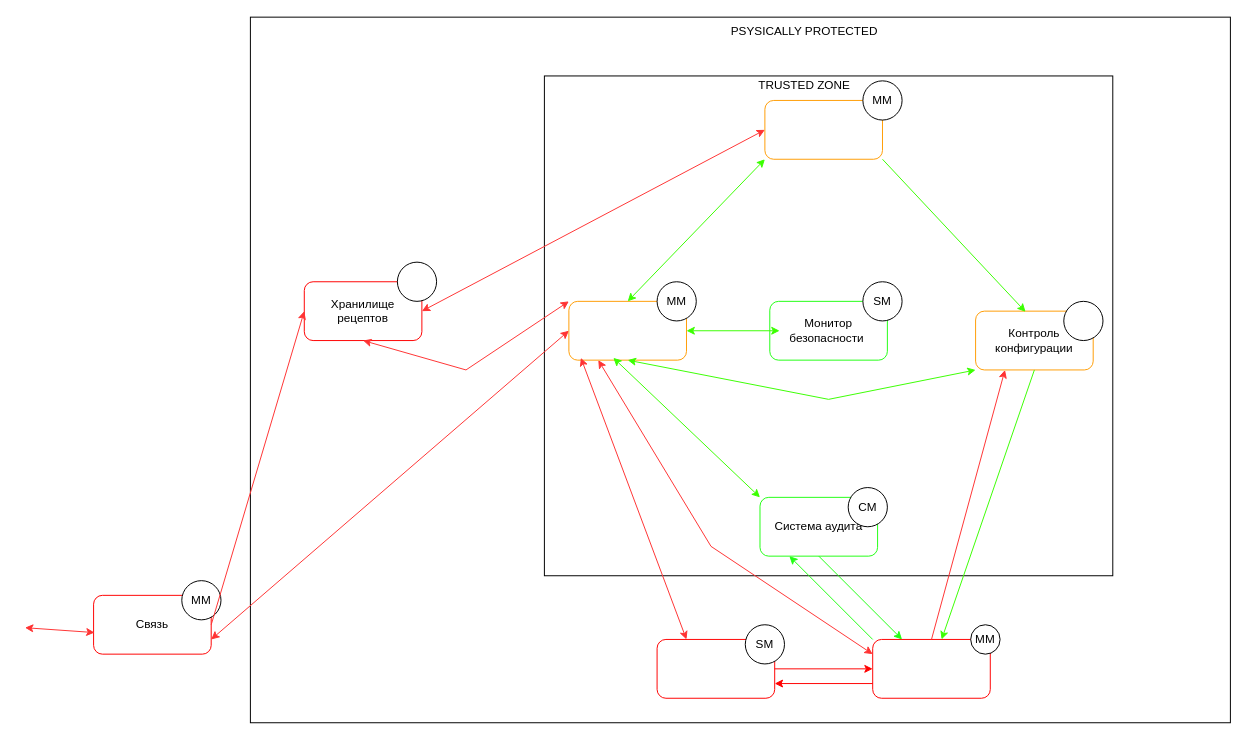
Image size: 1248x740. Some labels were removed from this diagram. Each missing label, with the box of its shape:
CL: (396, 261, 437, 301)
SS: (1063, 300, 1103, 341)
Брокер сообщение: (568, 300, 686, 360)
Робот-фармацевт: (656, 638, 775, 698)
Система контроля рецептов: (764, 99, 882, 159)
Система управления роботом: (872, 638, 990, 698)
